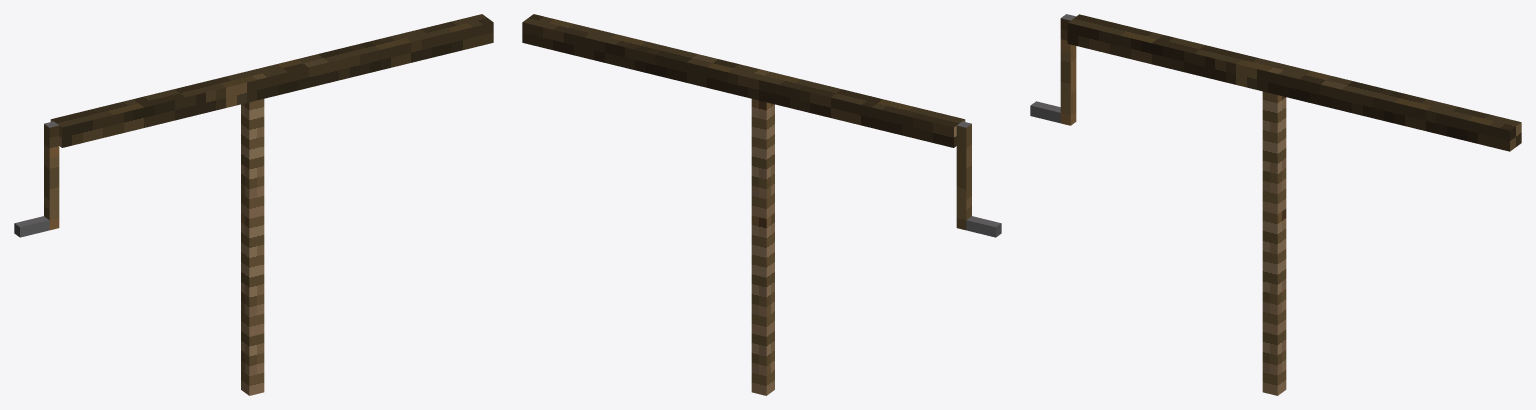
The model's file is wellRope.obj.
3 renders of one model, left to right at view 1: azimuth 30°, elevation 25°; view 2: azimuth 150°, elevation 25°; view 3: azimuth 330°, elevation 25°, orthographic. The views are drawn at different scales.
Visible parts, largest first — view 1: cube; view 2: cube; view 3: cube.
Part boxes in pixels (left/top/right/bottom): cube: left=14, top=14, right=493, bottom=395; cube: left=522, top=14, right=1001, bottom=395; cube: left=1030, top=14, right=1521, bottom=395.
Bounding box in the file's own units: 3 × 1.92 × 0.125.
Materials: 1 (1 with a texture image).
